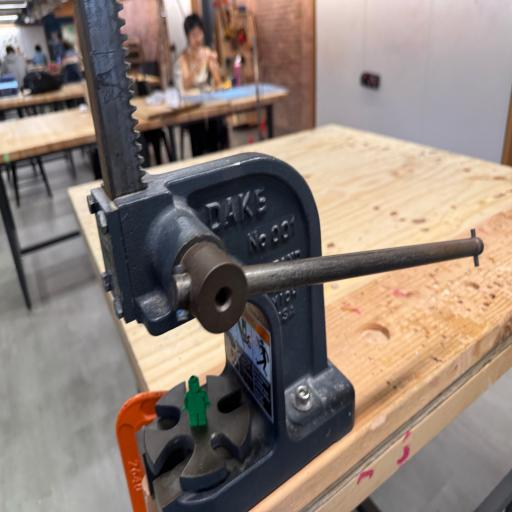Lego-Dude: (182, 376, 210, 427)
